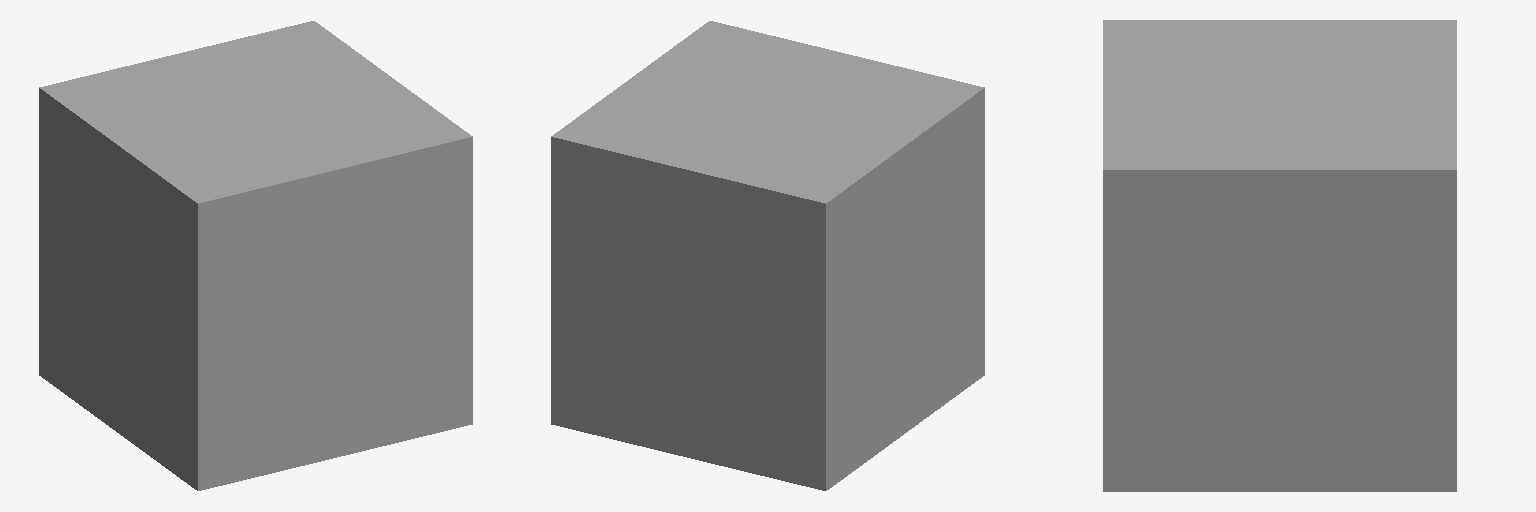
URDF robot description (cube):
<?xml version="1.0" ?>
<robot name="cube">
  <link name="cube-base">
    <visual>
      <origin rpy="0 0 0" xyz="0 0 0"/>
      <geometry>
        <box size="0.075 0.075 0.075"/>
      </geometry>
      <material name="test">
        <color rgba="0.7 0.7 0.7 1.0"/>
      </material>
    </visual>
    <collision>
      <origin rpy="0 0 0" xyz="0 0 0"/>
      <geometry>
        <box size="0.075 0.075 0.075"/>
      </geometry>
    </collision>
<!--     <inertial>
      <origin rpy="0 0 0" xyz="0.000000 0.000000 0.000000"/>
      <mass value="0.0"/>
      <inertia ixx="1.0" ixy="0.01" ixz="0.01" iyy="1.0" iyz="0.01" izz="1.0"/>
    </inertial> -->
  </link>
</robot>

--- Facts derived from the render (not from the file) ---
3 views of the same robot in one strip: view 1: azimuth 30°, elevation 25°; view 2: azimuth 150°, elevation 25°; view 3: azimuth 270°, elevation 25° (orthographic).
Robot: cube — 1 links, 0 joints (none); root link cube-base; default pose: all joints at 0.
Links seen in each view (by area): view 1: cube-base; view 2: cube-base; view 3: cube-base.
Boxes of the visible links, x1,y1,x2,y2 form: cube-base: (39, 21, 472, 490); cube-base: (551, 21, 984, 490); cube-base: (1103, 20, 1456, 491).
Size in the robot's own frame: 0.075 by 0.075 by 0.075 metres.
Geometry: primitives only (box / cylinder / sphere), no mesh files.